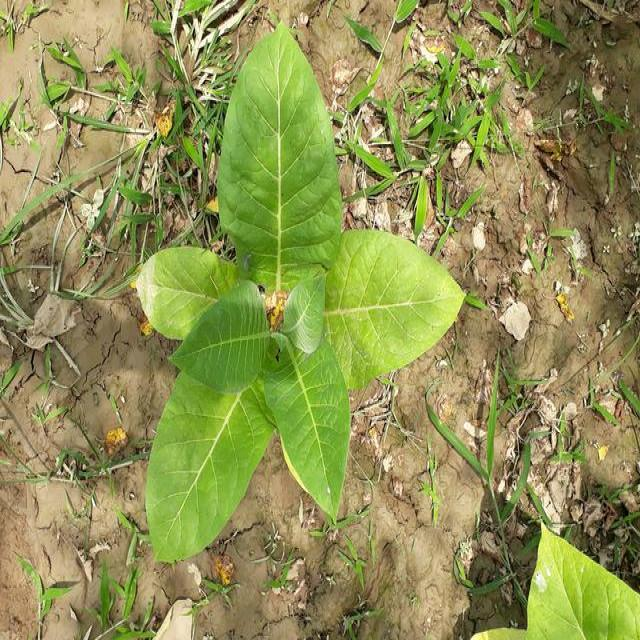crop: (130, 36, 460, 552), (484, 527, 640, 640)
